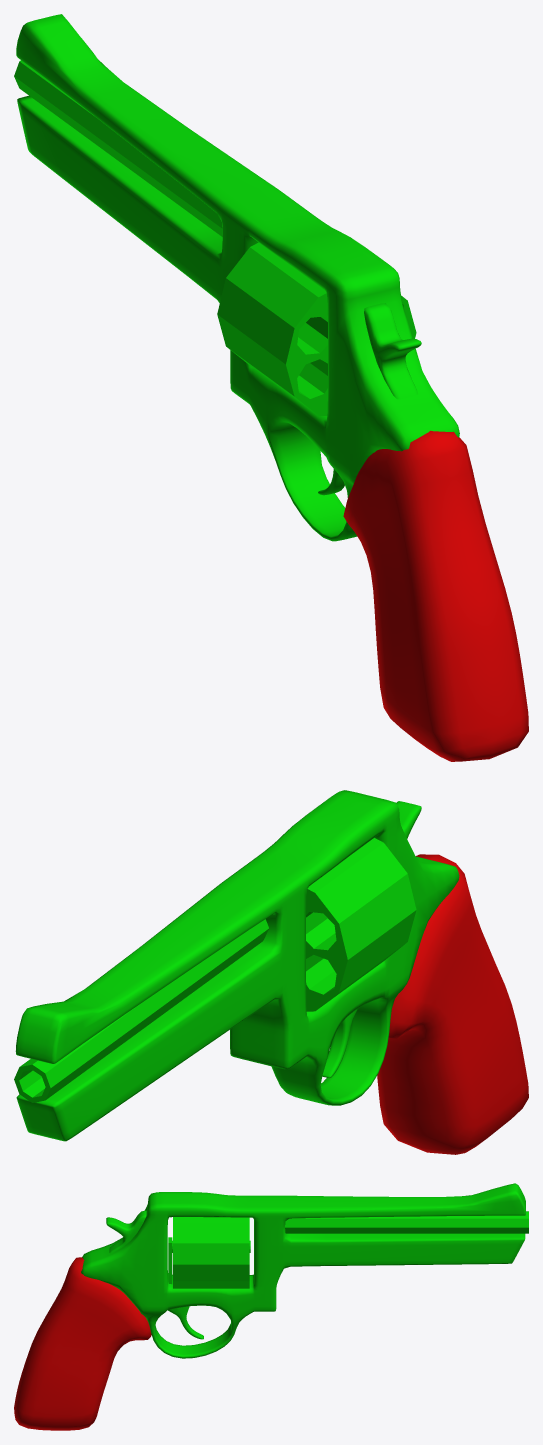
The model's file is revolver.fbx.
3 renders of one model, top to bottom at view 1: azimuth 30°, elevation 25°; view 2: azimuth 150°, elevation 25°; view 3: azimuth 270°, elevation 25°, orthographic. The views are drawn at different scales.
Visible parts, largest first — view 1: Cylinder; view 2: Cylinder; view 3: Cylinder.
Boxes of the visible parts, x1=… form: Cylinder: x1=14, y1=14, x2=528, y2=761; Cylinder: x1=14, y1=790, x2=528, y2=1154; Cylinder: x1=14, y1=1183, x2=528, y2=1430.
Size of the model in its own units: 75.13 by 234 by 459.
